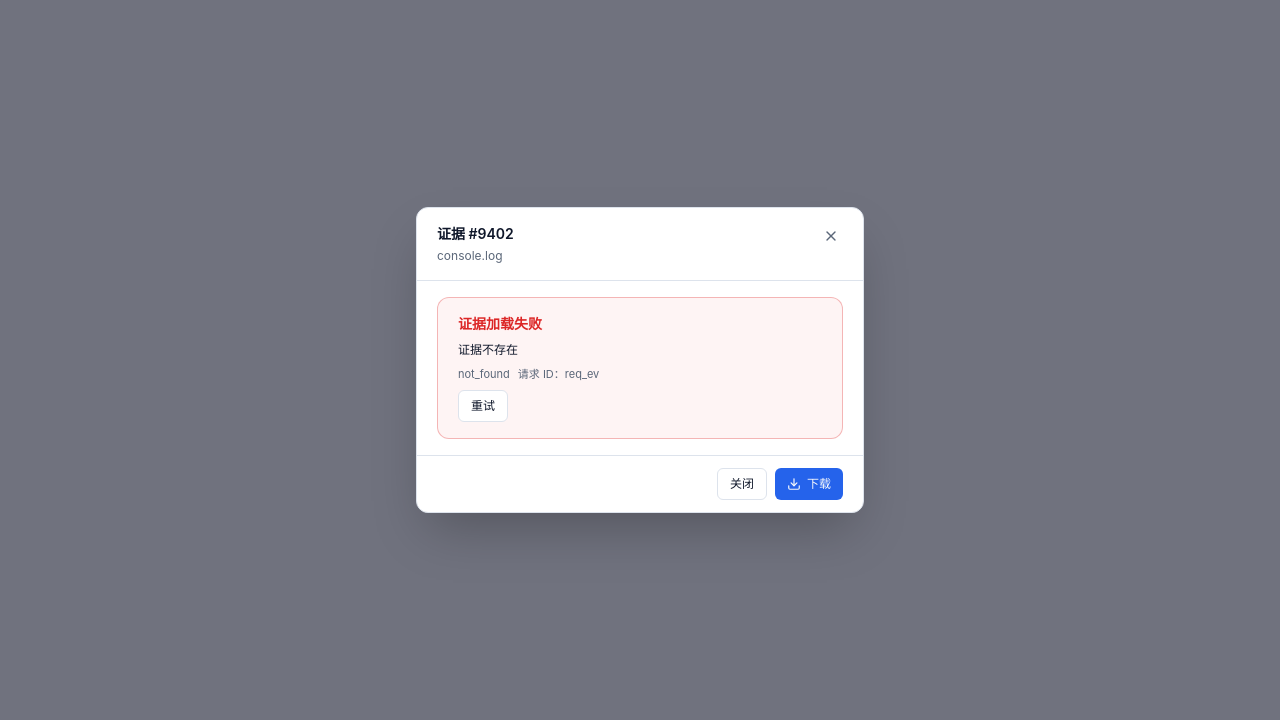
Test: EvidenceViewer › shows a retryable error state when the evidence download fails
Check: the text "证据不存在" is shown, box 458,342 -> 518,358
Step 1. Click the button "重试" → (483, 406), box 458,390 -> 508,422
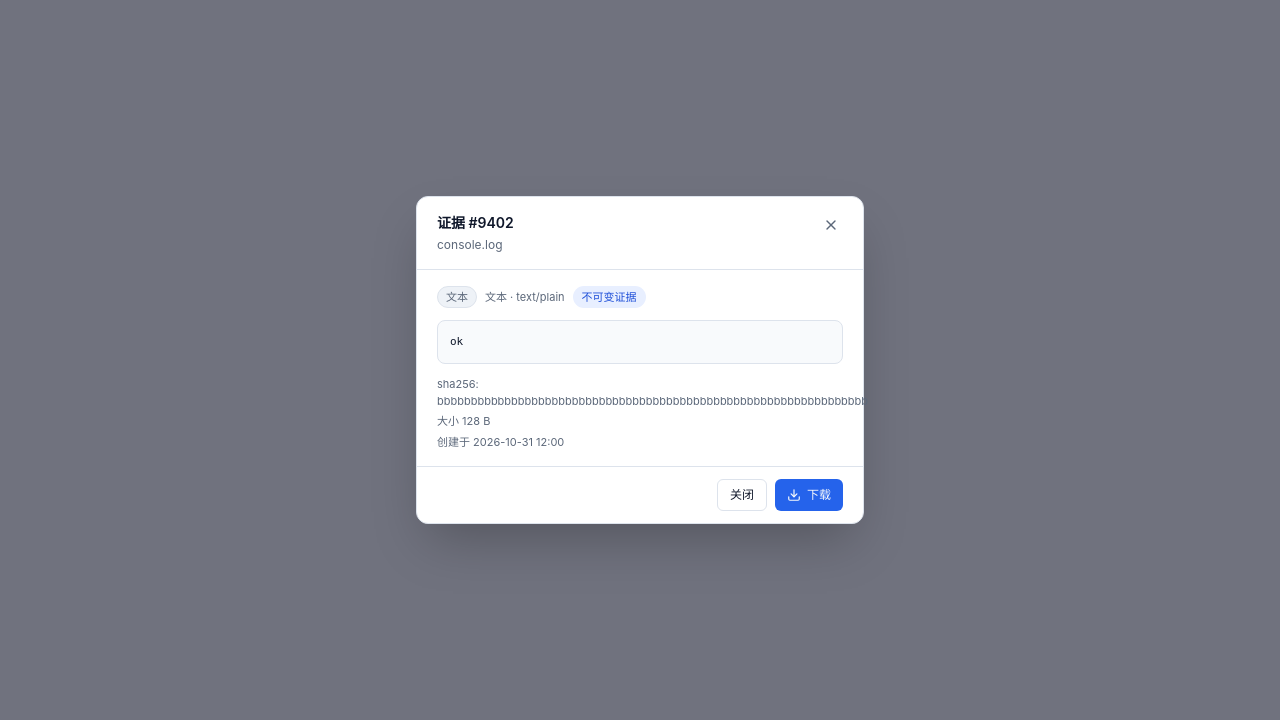
Check: the text with test id "evidence-text" reads "ok", box 450,335 -> 463,348
